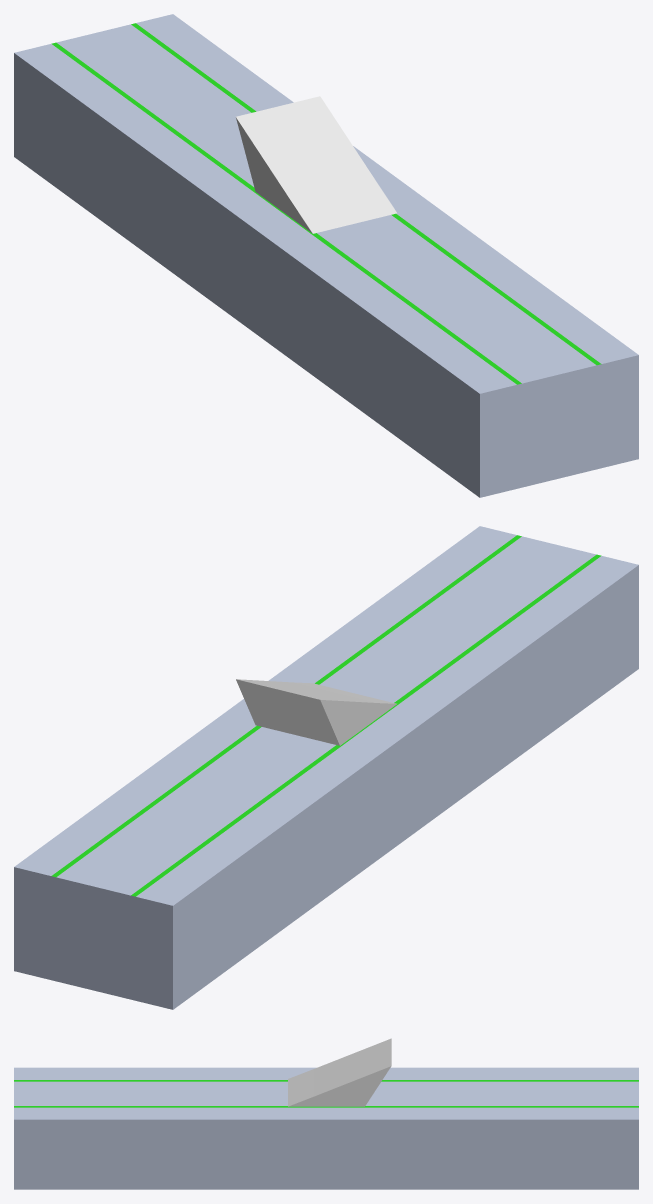
File: Trap.fbx
3 renders of one model, top to bottom at view 1: azimuth 30°, elevation 25°; view 2: azimuth 150°, elevation 25°; view 3: azimuth 270°, elevation 25°, orthographic. The views are drawn at different scales.
Visible parts, largest first — view 1: Cube, Cube.001; view 2: Cube, Cube.001; view 3: Cube, Cube.001.
Part boxes in pixels (<box>): Cube: <box>14,14,638,497</box>; Cube.001: <box>236,96,396,233</box>; Cube: <box>14,526,638,1009</box>; Cube.001: <box>236,679,396,745</box>; Cube: <box>14,1067,638,1189</box>; Cube.001: <box>288,1038,391,1106</box>.
Size of the model in its own units: 3.2 by 3.19 by 16.23.
